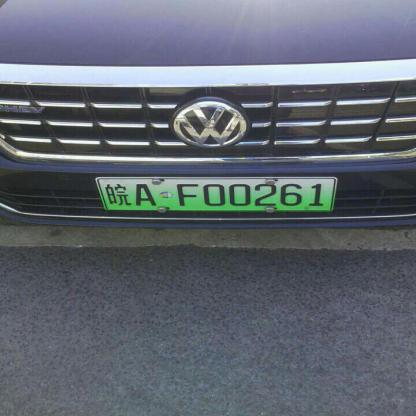lp: (97, 177, 335, 210)
